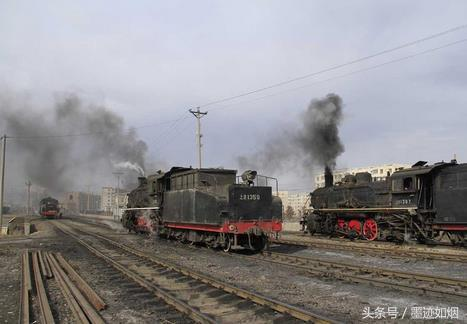smoke: (78, 102, 152, 172), (8, 100, 62, 189), (291, 91, 347, 169)
